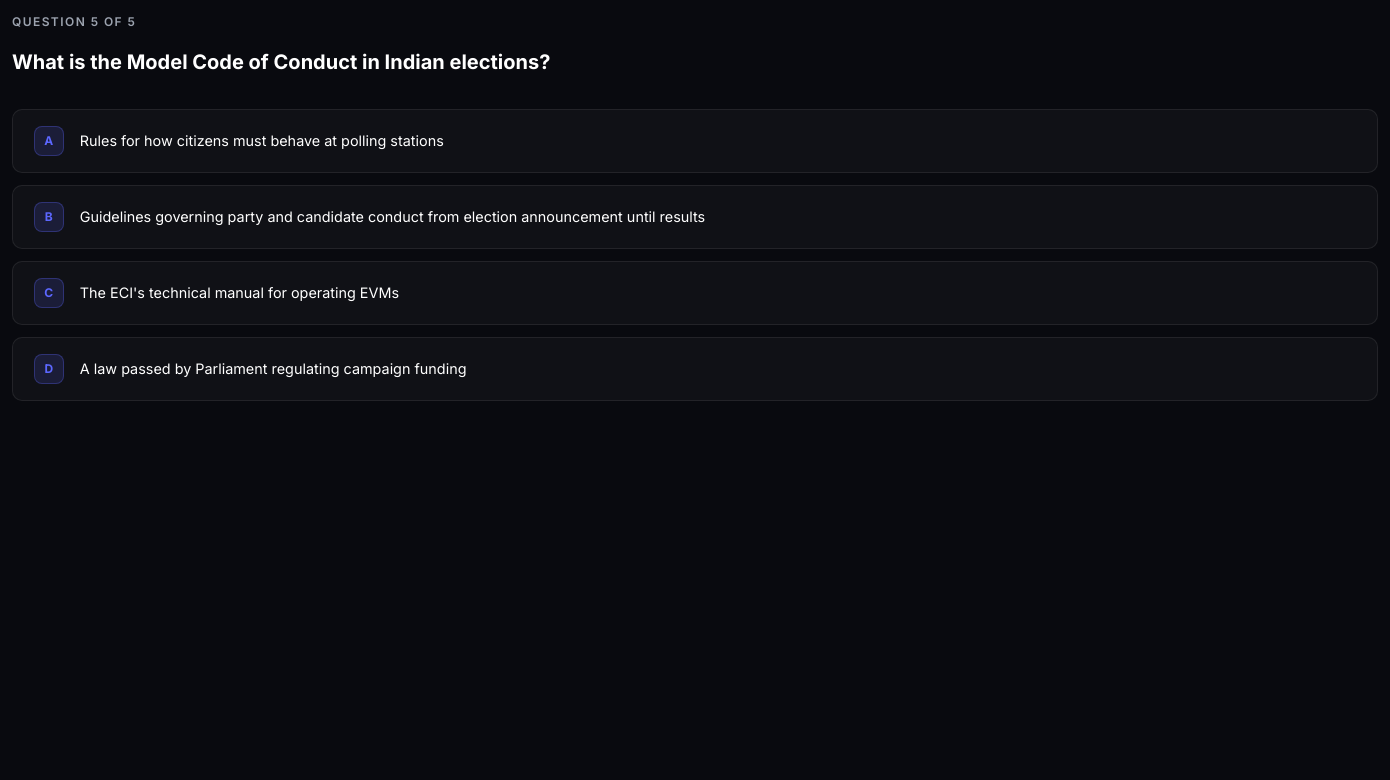
Test: QuizQuestion Component › handles last question button text
What coordinates should you click on to do the following:
click the text "Rules for how citizens must behave at polling stations"
I would click on:
 (262, 141)
Its box is [80,130,444,152].
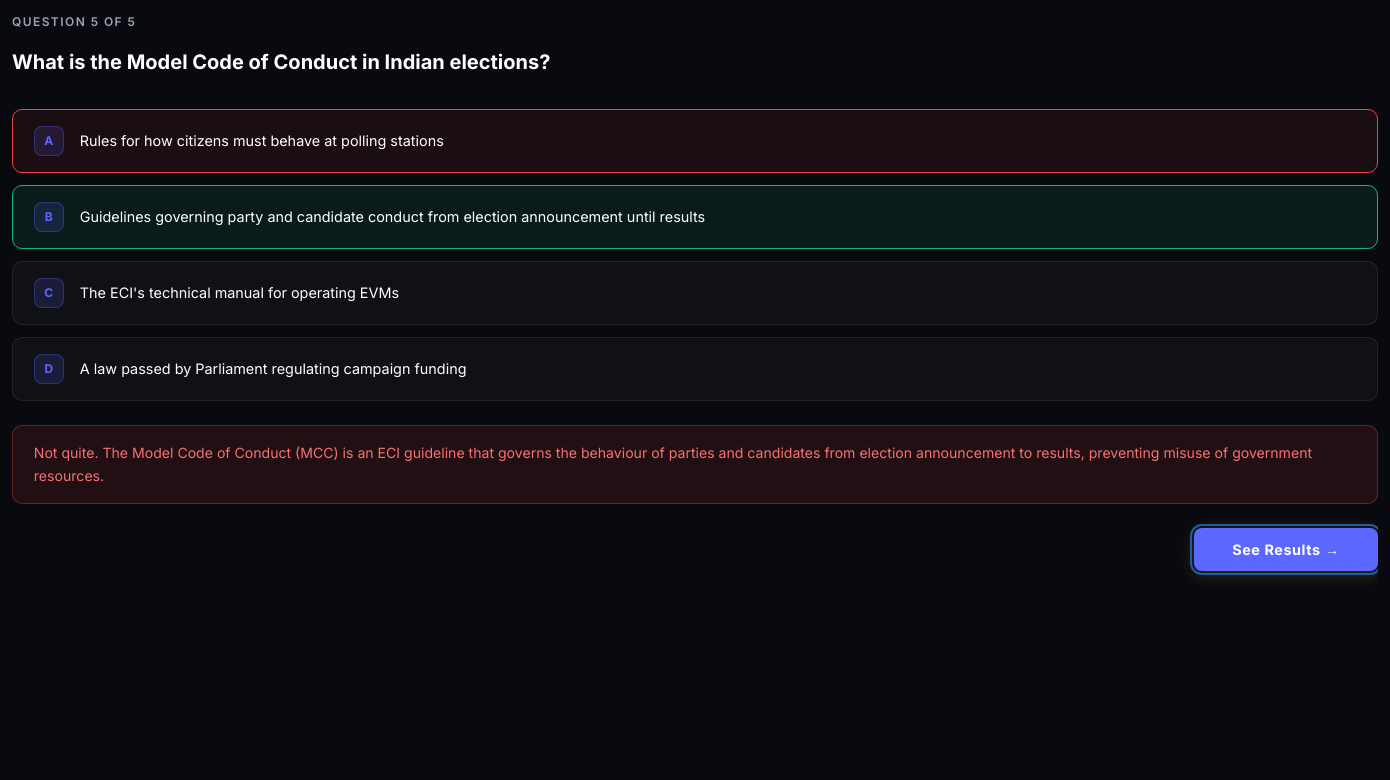
Check: the button "See Results →" is shown, box [1194,528,1378,571]
